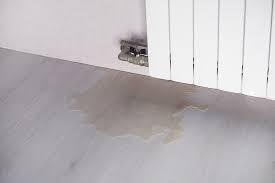water accumulation: (66, 74, 211, 148)
